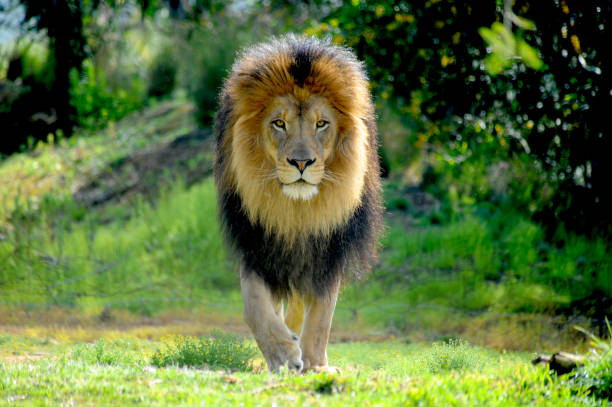lion: (184, 28, 437, 342)
